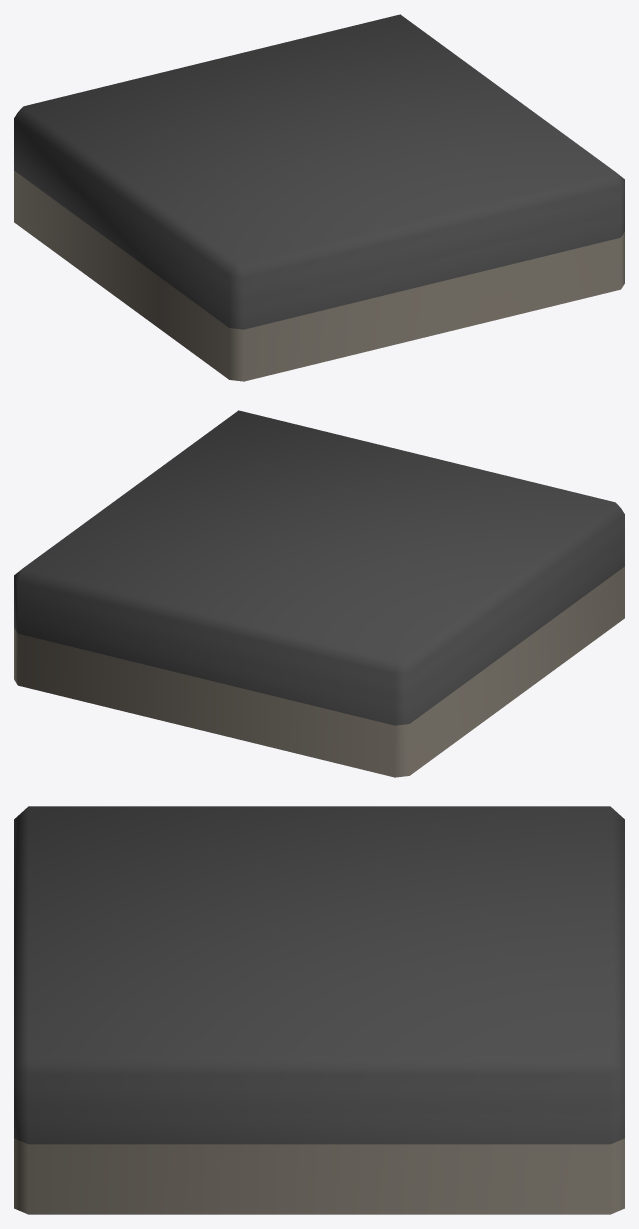
The model's file is RoofAdd_2_A_3.fbx.
3 views of the same model, one above another, from view 1: azimuth 30°, elevation 25°; view 2: azimuth 150°, elevation 25°; view 3: azimuth 270°, elevation 25° (orthographic). The views are drawn at different scales.
Visible parts, largest first — view 1: RoofAdd_2_A_3; view 2: RoofAdd_2_A_3; view 3: RoofAdd_2_A_3.
Part boxes in pixels (bbox=[...]): RoofAdd_2_A_3: bbox=[14, 14, 624, 381]; RoofAdd_2_A_3: bbox=[14, 410, 624, 777]; RoofAdd_2_A_3: bbox=[14, 806, 624, 1214].
Bounding box in the file's own units: 270 × 74.17 × 267.
